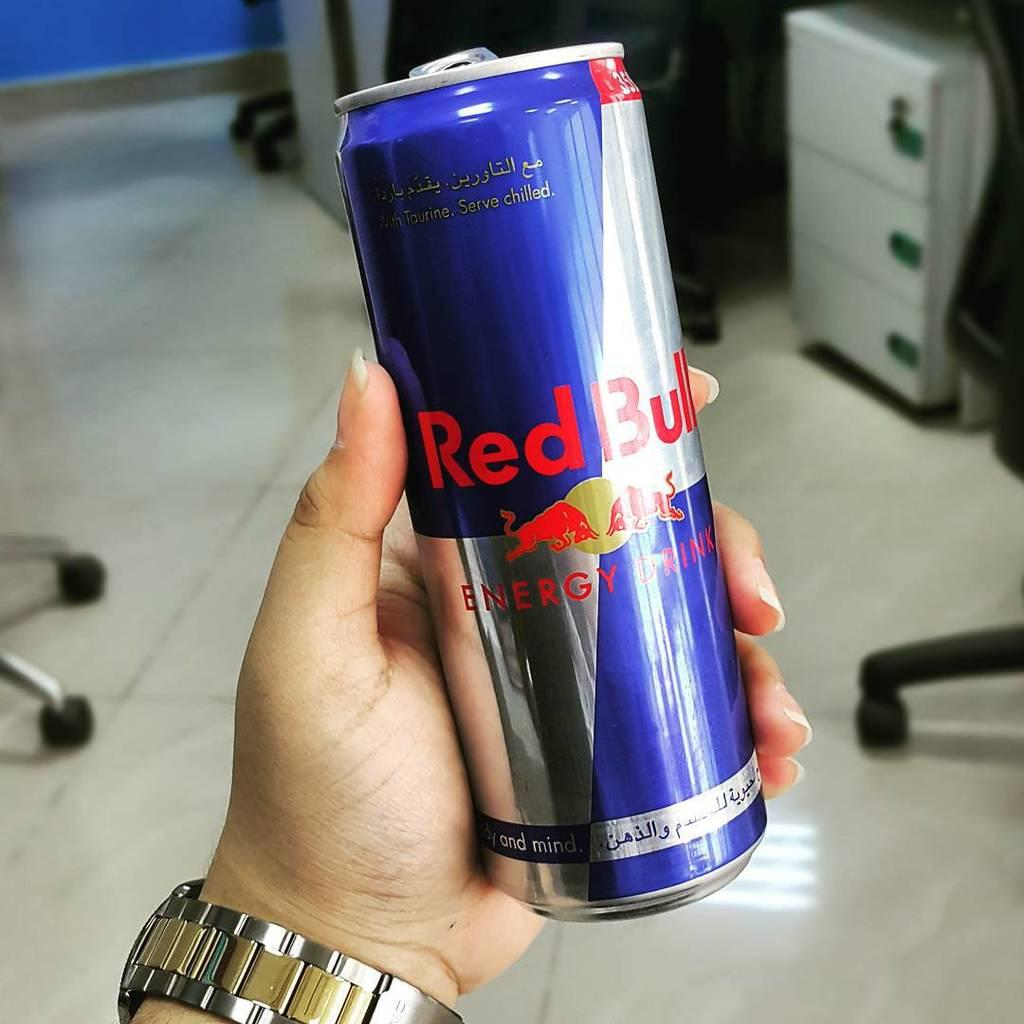cabinet_door: (786, 44, 930, 165), (802, 164, 940, 288), (803, 262, 940, 376)
handle: (882, 108, 924, 155), (884, 226, 924, 272), (881, 326, 924, 368)
